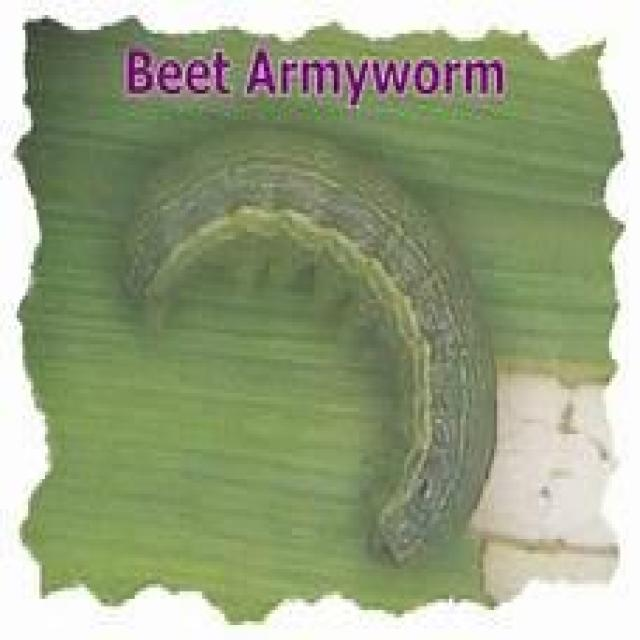BeetArmyWorm-Larva-: (109, 125, 505, 577)
